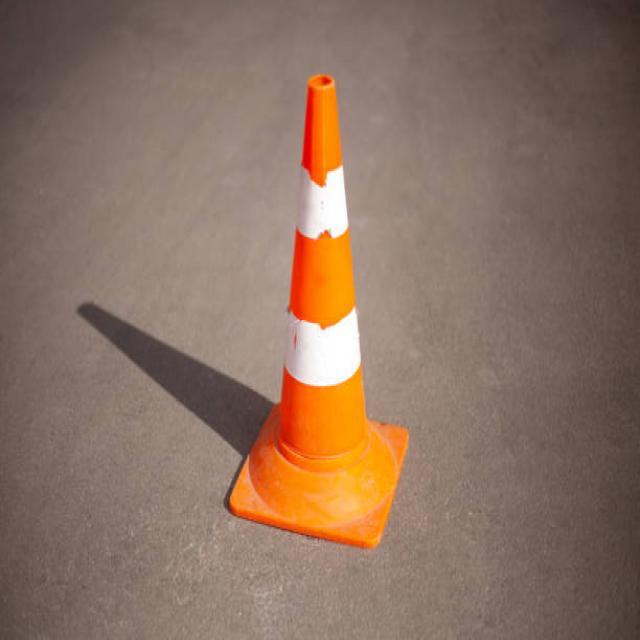Traffic Cone: (215, 63, 422, 566)
